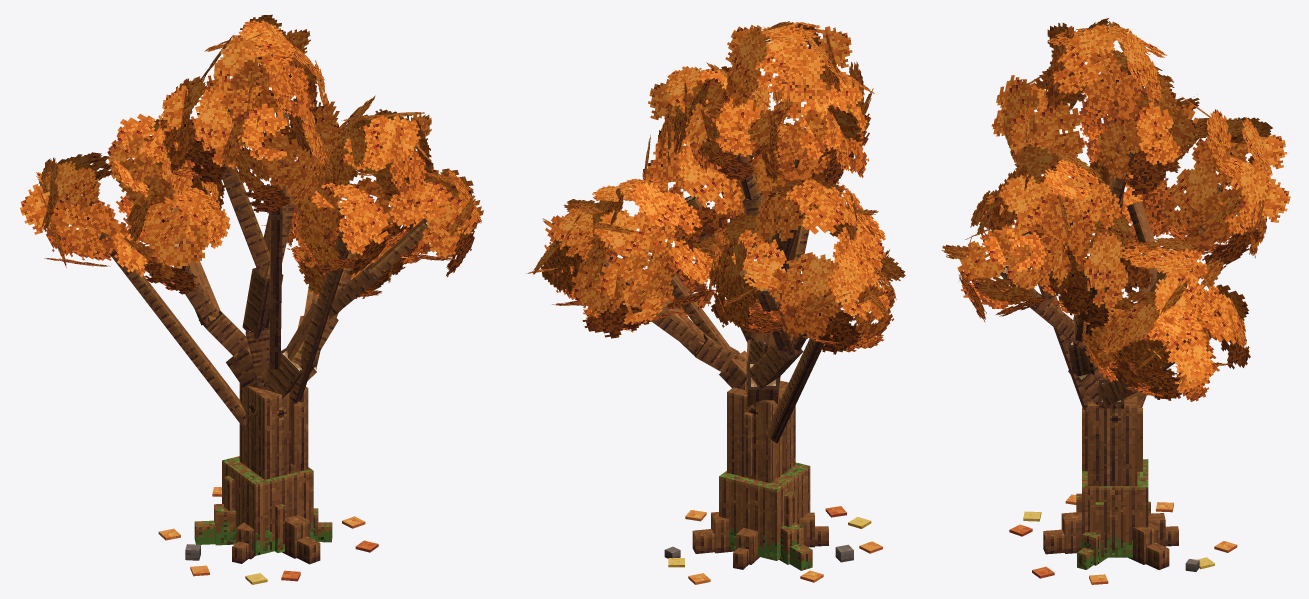
The model's file is maple_tree_3.glb.
3 renders of one model, left to right at view 1: azimuth 30°, elevation 25°; view 2: azimuth 150°, elevation 25°; view 3: azimuth 270°, elevation 25°, orthographic.
Parts seen in each view (by area): view 1: maple_tree_3; view 2: maple_tree_3; view 3: maple_tree_3.
Boxes of the visible parts, x1,y1,x2,y2 form: maple_tree_3: [20, 14, 483, 584]; maple_tree_3: [526, 21, 905, 584]; maple_tree_3: [941, 18, 1290, 584].
Size of the model in its own units: 5.12 by 6.51 by 4.
2 materials, 2 textured.
